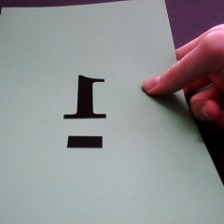green1: (60, 66, 117, 154)
